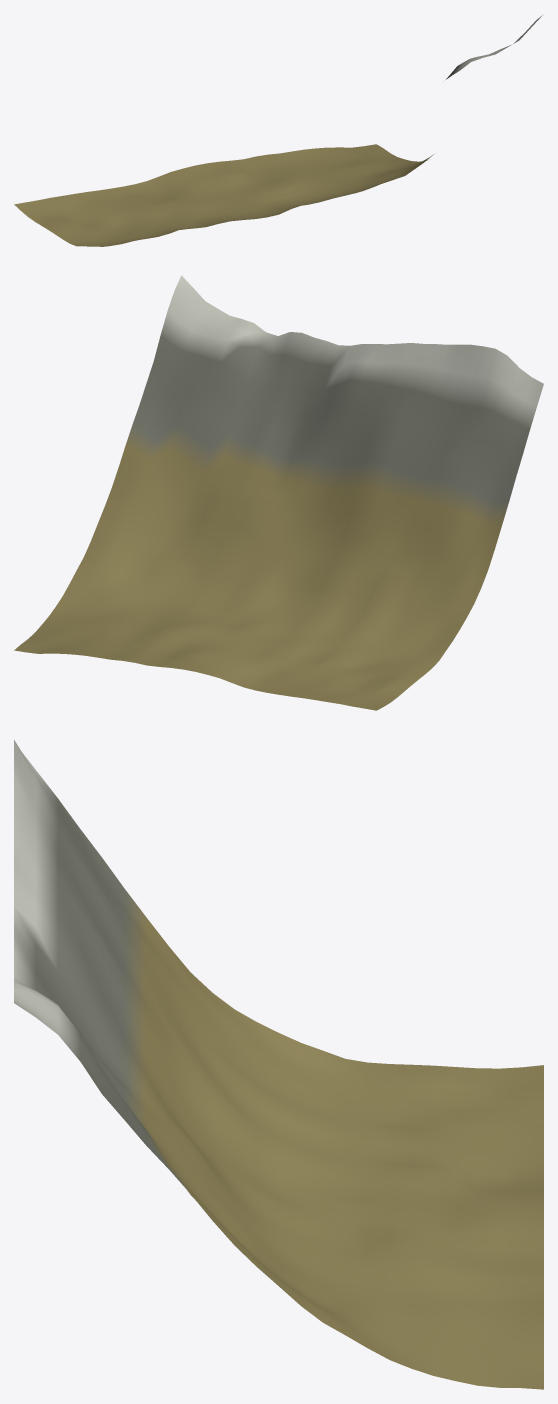
The picture shows the model from 3 angles, top to bottom: view 1: azimuth 30°, elevation 25°; view 2: azimuth 150°, elevation 25°; view 3: azimuth 270°, elevation 25°; orthographic projection. The views are drawn at different scales.
Visible parts, largest first — view 1: world-ground/210-0; view 2: world-ground/210-0; view 3: world-ground/210-0.
Boxes of the visible parts, <box> form: world-ground/210-0: <box>14,14,543,246</box>; world-ground/210-0: <box>14,275,543,710</box>; world-ground/210-0: <box>14,740,543,1389</box>.
Bounding box in the file's own units: 37.5 × 25.29 × 30.
